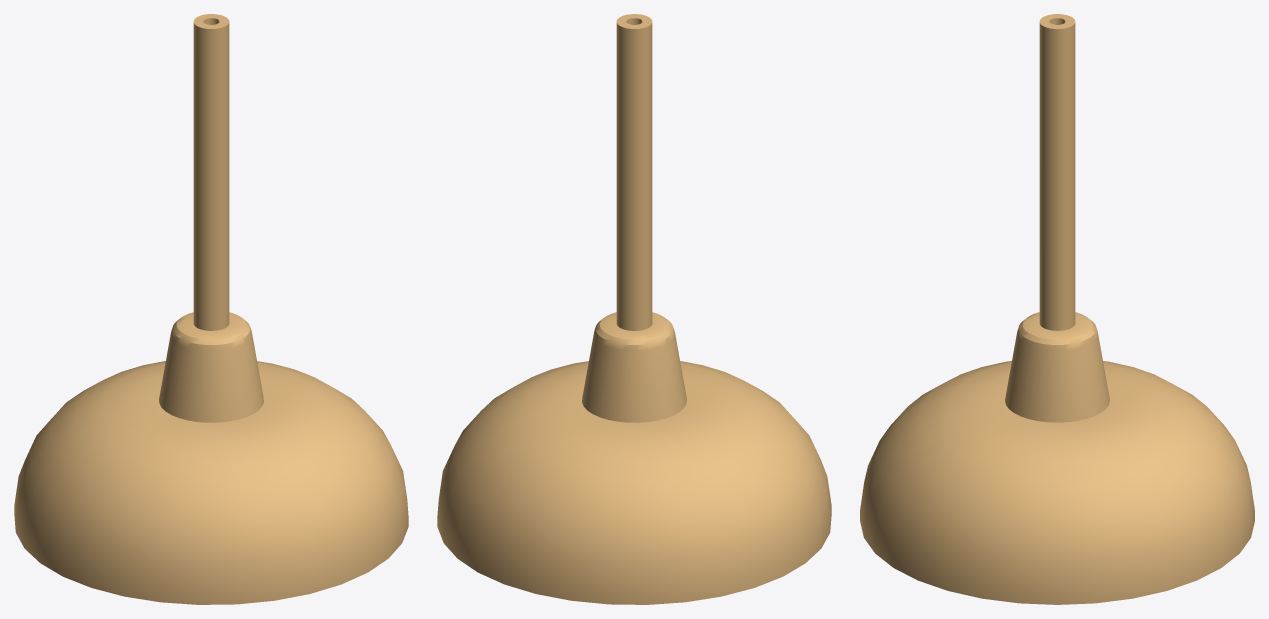
Rendered from Lamp.fbx.
The picture shows the model from 3 angles, left to right: view 1: azimuth 30°, elevation 25°; view 2: azimuth 150°, elevation 25°; view 3: azimuth 270°, elevation 25°; orthographic projection.
Parts seen in each view (by area): view 1: Circle; view 2: Circle; view 3: Circle.
Part boxes in pixels (left/top/right/bottom): Circle: left=14, top=14, right=408, bottom=604; Circle: left=437, top=14, right=831, bottom=604; Circle: left=860, top=14, right=1254, bottom=604.
Size of the model in its own units: 66.55 by 93 by 66.55.
